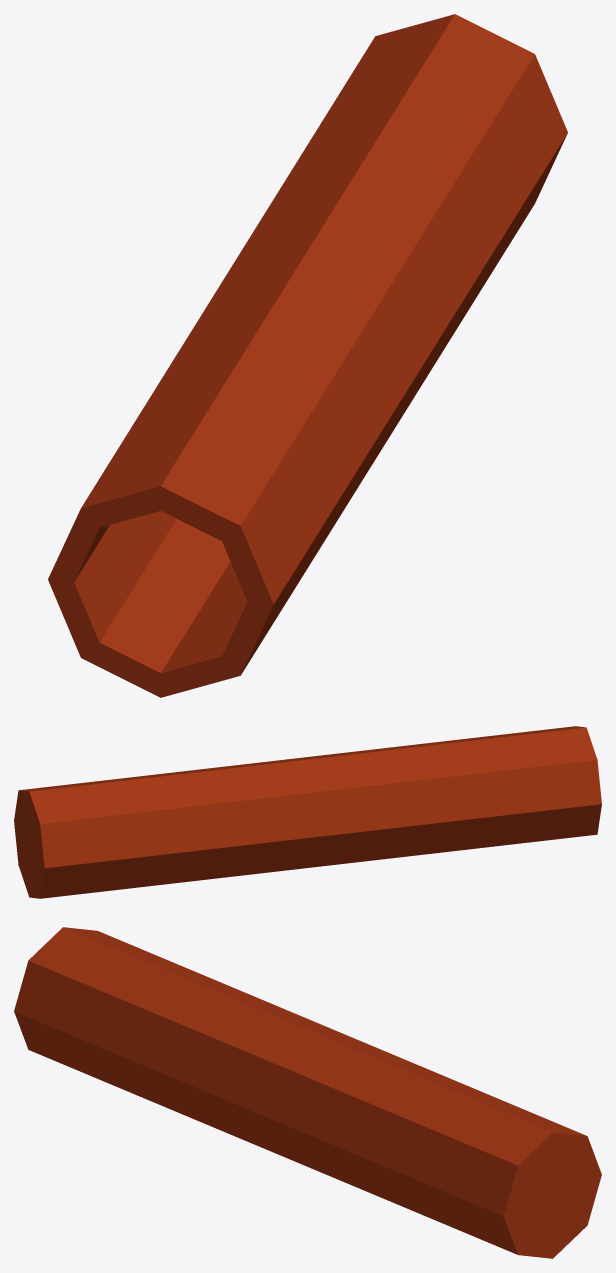
Rendered from Log.FBX.
3 views of the same model, one above another, from view 1: azimuth 30°, elevation 25°; view 2: azimuth 150°, elevation 25°; view 3: azimuth 270°, elevation 25° (orthographic). The views are drawn at different scales.
Parts seen in each view (by area): view 1: Cylinder; view 2: Cylinder; view 3: Cylinder.
Boxes of the visible parts, x1,y1,x2,y2 form: Cylinder: (48, 14, 567, 697); Cylinder: (14, 726, 601, 898); Cylinder: (14, 927, 601, 1258).
Bounding box in the file's own units: 25.7 × 6.13 × 25.84.
